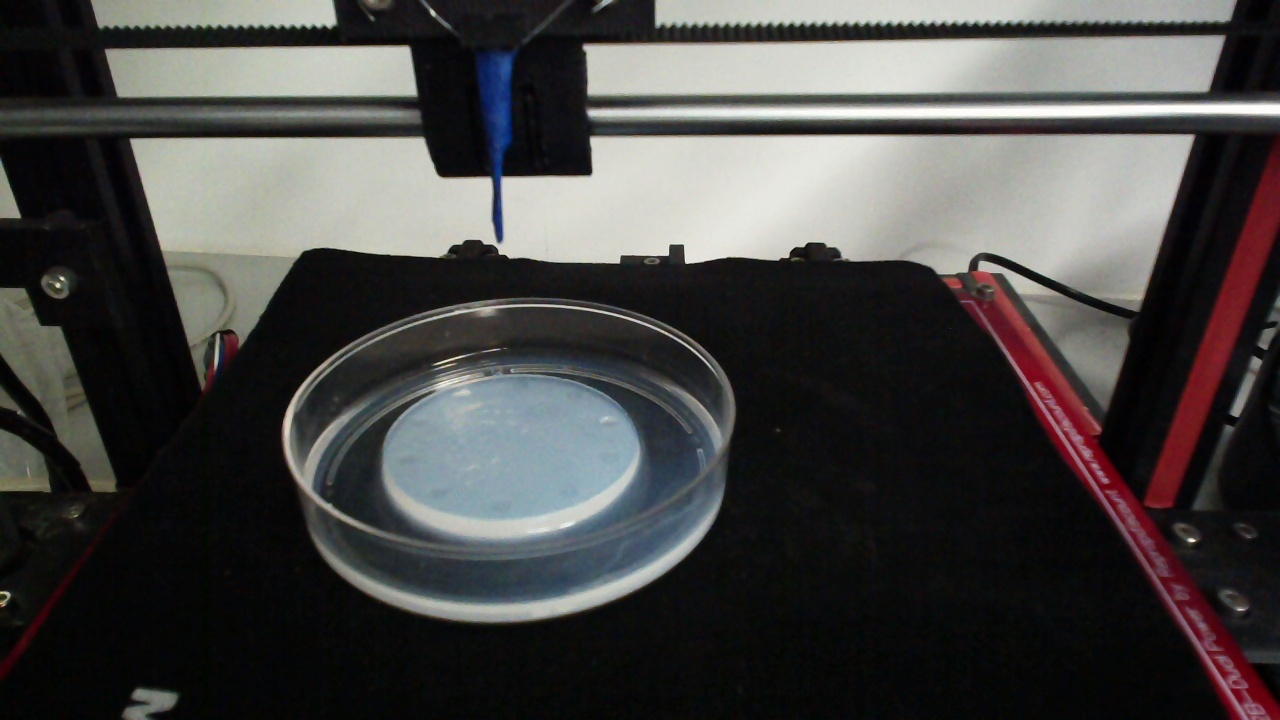groove: (394, 449, 417, 467), (488, 497, 515, 512), (596, 448, 618, 466), (409, 412, 432, 429), (426, 485, 449, 501), (559, 483, 580, 499), (509, 377, 529, 393), (598, 415, 619, 430), (562, 388, 583, 403), (450, 388, 470, 402)
needle: (477, 51, 514, 245)
